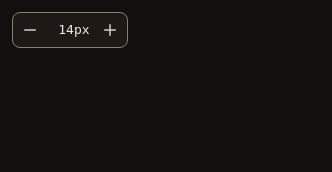
it: the typed font size (G-179) › says an end's button goes no further without disabling it, and a press there changes nothing
Later steps or results of the test are not shown.
Replace the text in the field named "Terminal font size" with "22" at coordinates (62, 30), box [50,13,74,47]
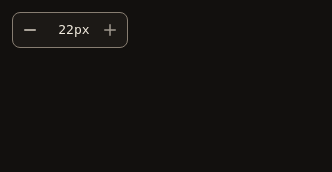
Check: the button named "Larger" is enabled, box [92,13,126,47]
